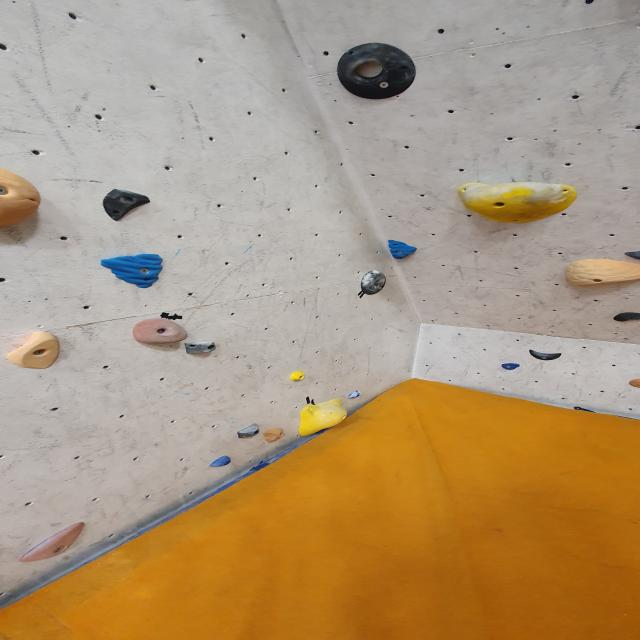Crimp: (17, 520, 91, 562), (99, 256, 164, 289), (386, 240, 418, 260), (210, 456, 232, 468), (500, 362, 520, 371)
Jug: (132, 318, 189, 347)
Pinch: (7, 333, 64, 371), (230, 420, 269, 440), (183, 340, 218, 357)
Pocket: (335, 44, 419, 102), (358, 270, 386, 297)
Sloper: (456, 182, 578, 226), (0, 165, 70, 230), (562, 259, 640, 291), (94, 185, 157, 221), (298, 400, 350, 438), (526, 348, 563, 362), (262, 428, 286, 442)
